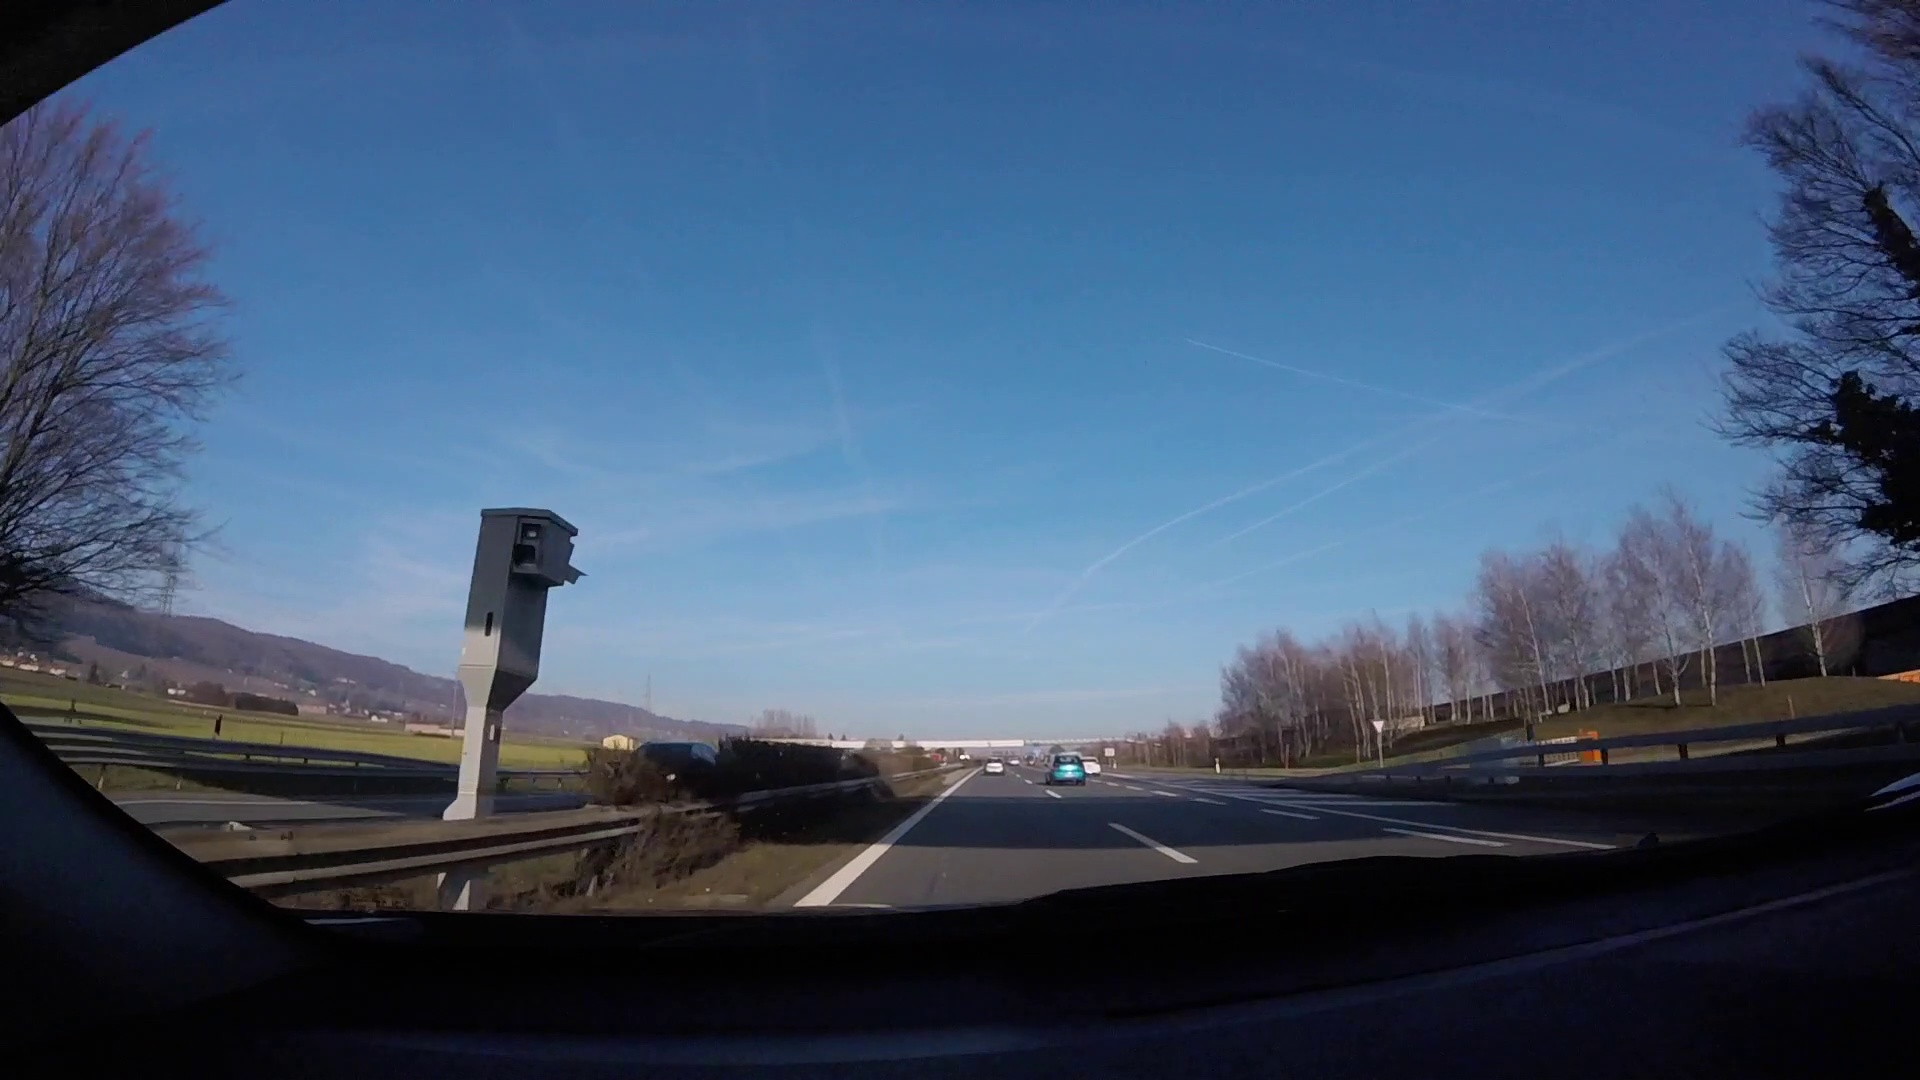radar: (458, 505, 589, 796)
